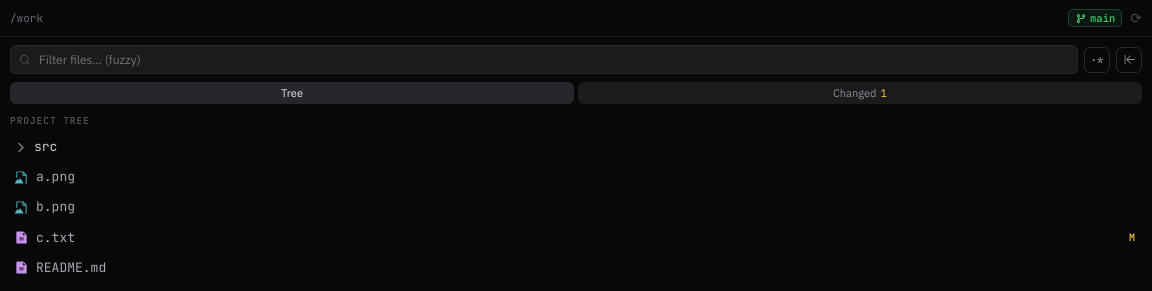
Test case: right-clicking outside the selection collapses it to that row
Click the text "a.png" at (56, 177), box [36,168,75,185]
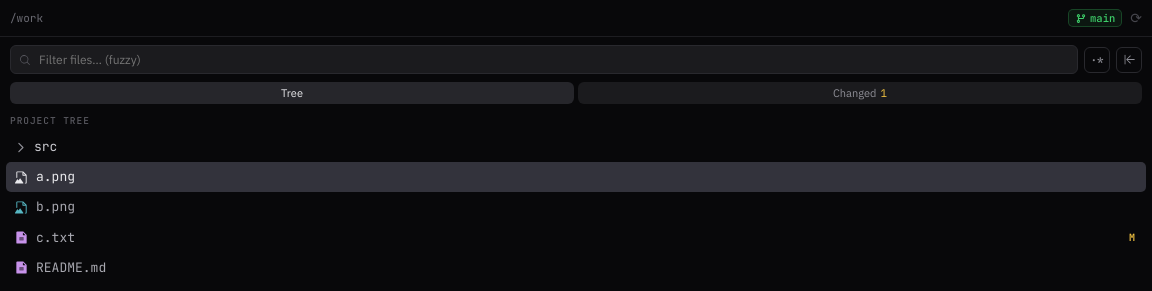
Click the text "b.png" at (56, 207), box [36,198,75,215]
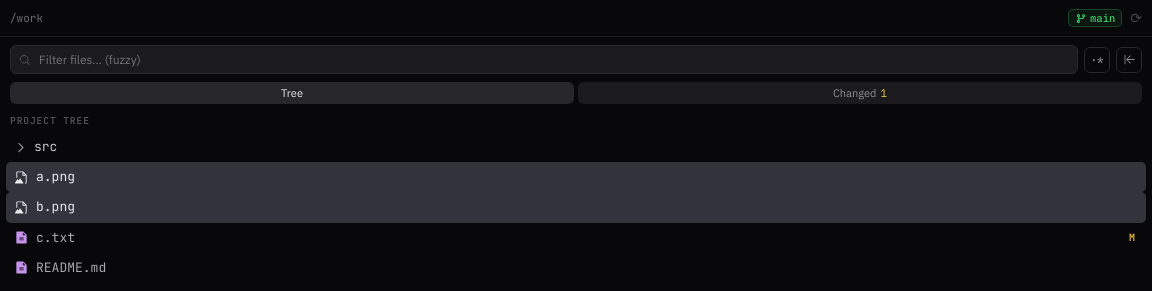
Right-click the text "c.txt" at (56, 237), box [36,229,75,246]
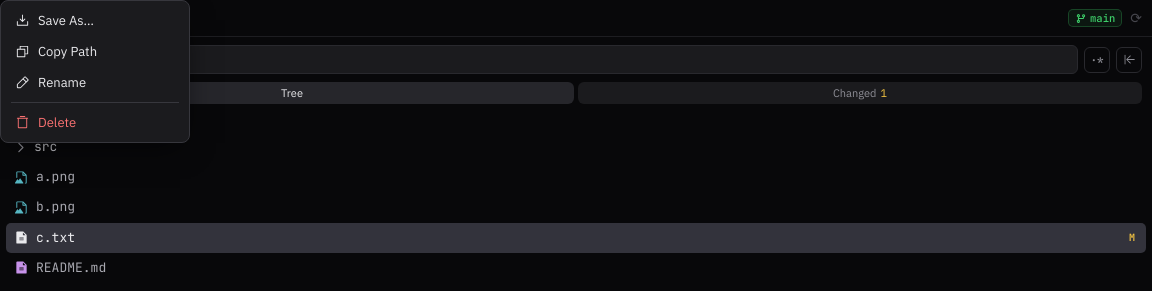
Press Escape
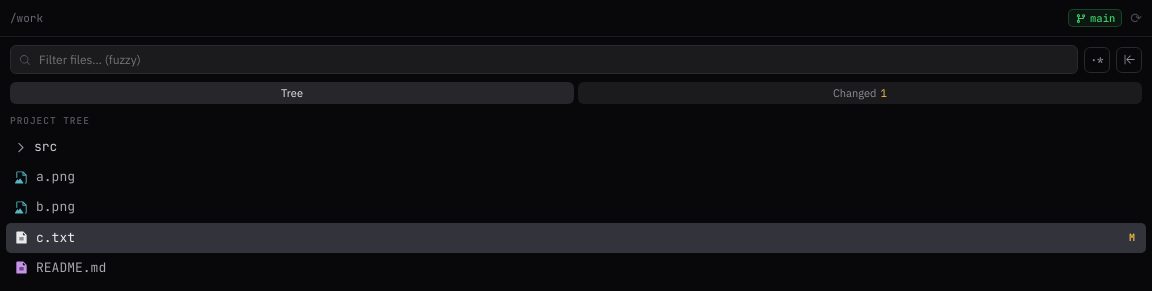
Right-click the text "a.png" at (56, 177), box [36,168,75,185]
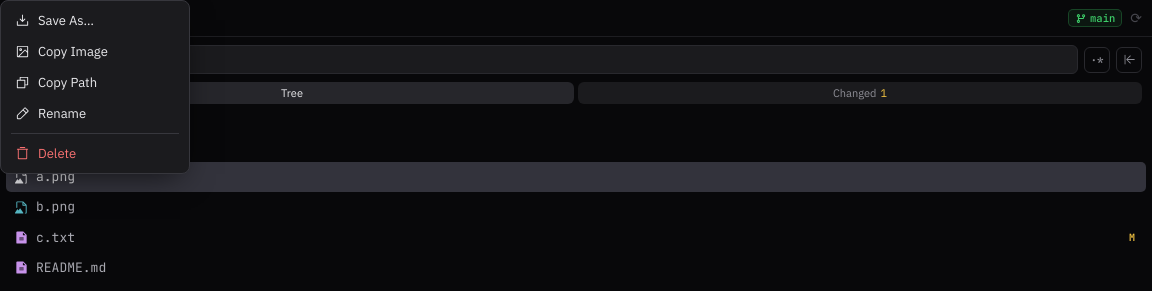
Result: the button "Delete" is shown at [5,138,185,169]
